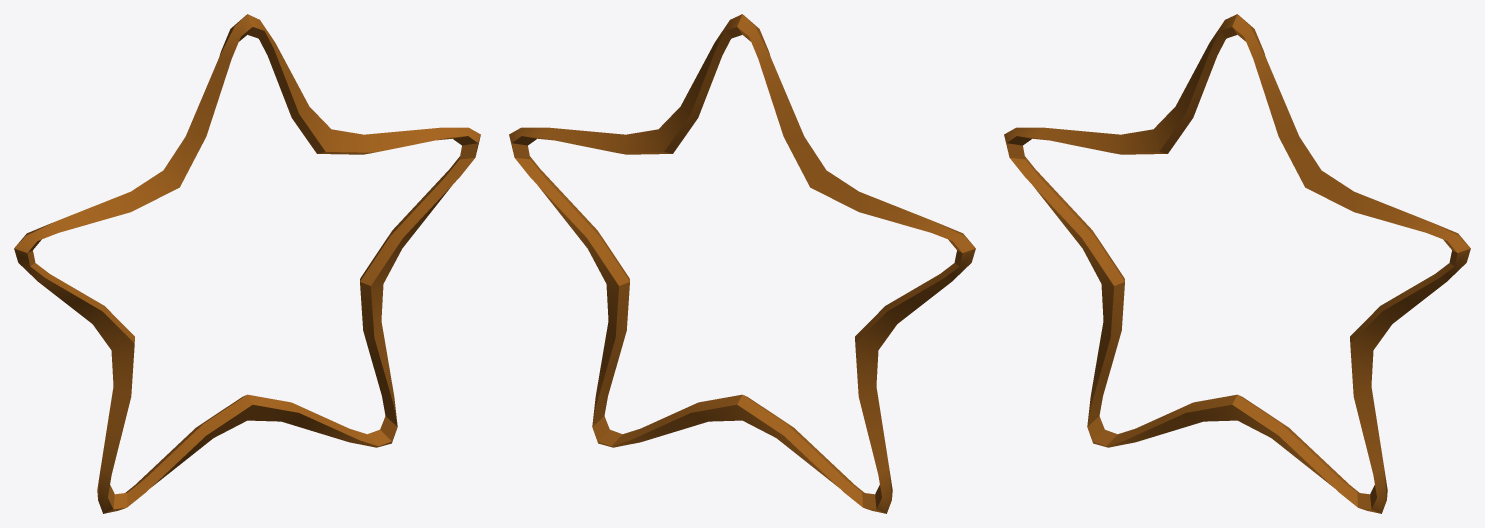
Rendered from star-outline.obj.
3 views of the same model, side by side, from view 1: azimuth 30°, elevation 25°; view 2: azimuth 150°, elevation 25°; view 3: azimuth 330°, elevation 25° (orthographic).
Parts seen in each view (by area): view 1: Star_Outline_Cylinder.002; view 2: Star_Outline_Cylinder.002; view 3: Star_Outline_Cylinder.002.
Part boxes in pixels (box(x1,y1,x2,y2)): Star_Outline_Cylinder.002: box(14, 14, 480, 513); Star_Outline_Cylinder.002: box(509, 14, 975, 513); Star_Outline_Cylinder.002: box(1004, 14, 1470, 513).
Size of the model in its own units: 1.51 by 1.44 by 0.0594.
